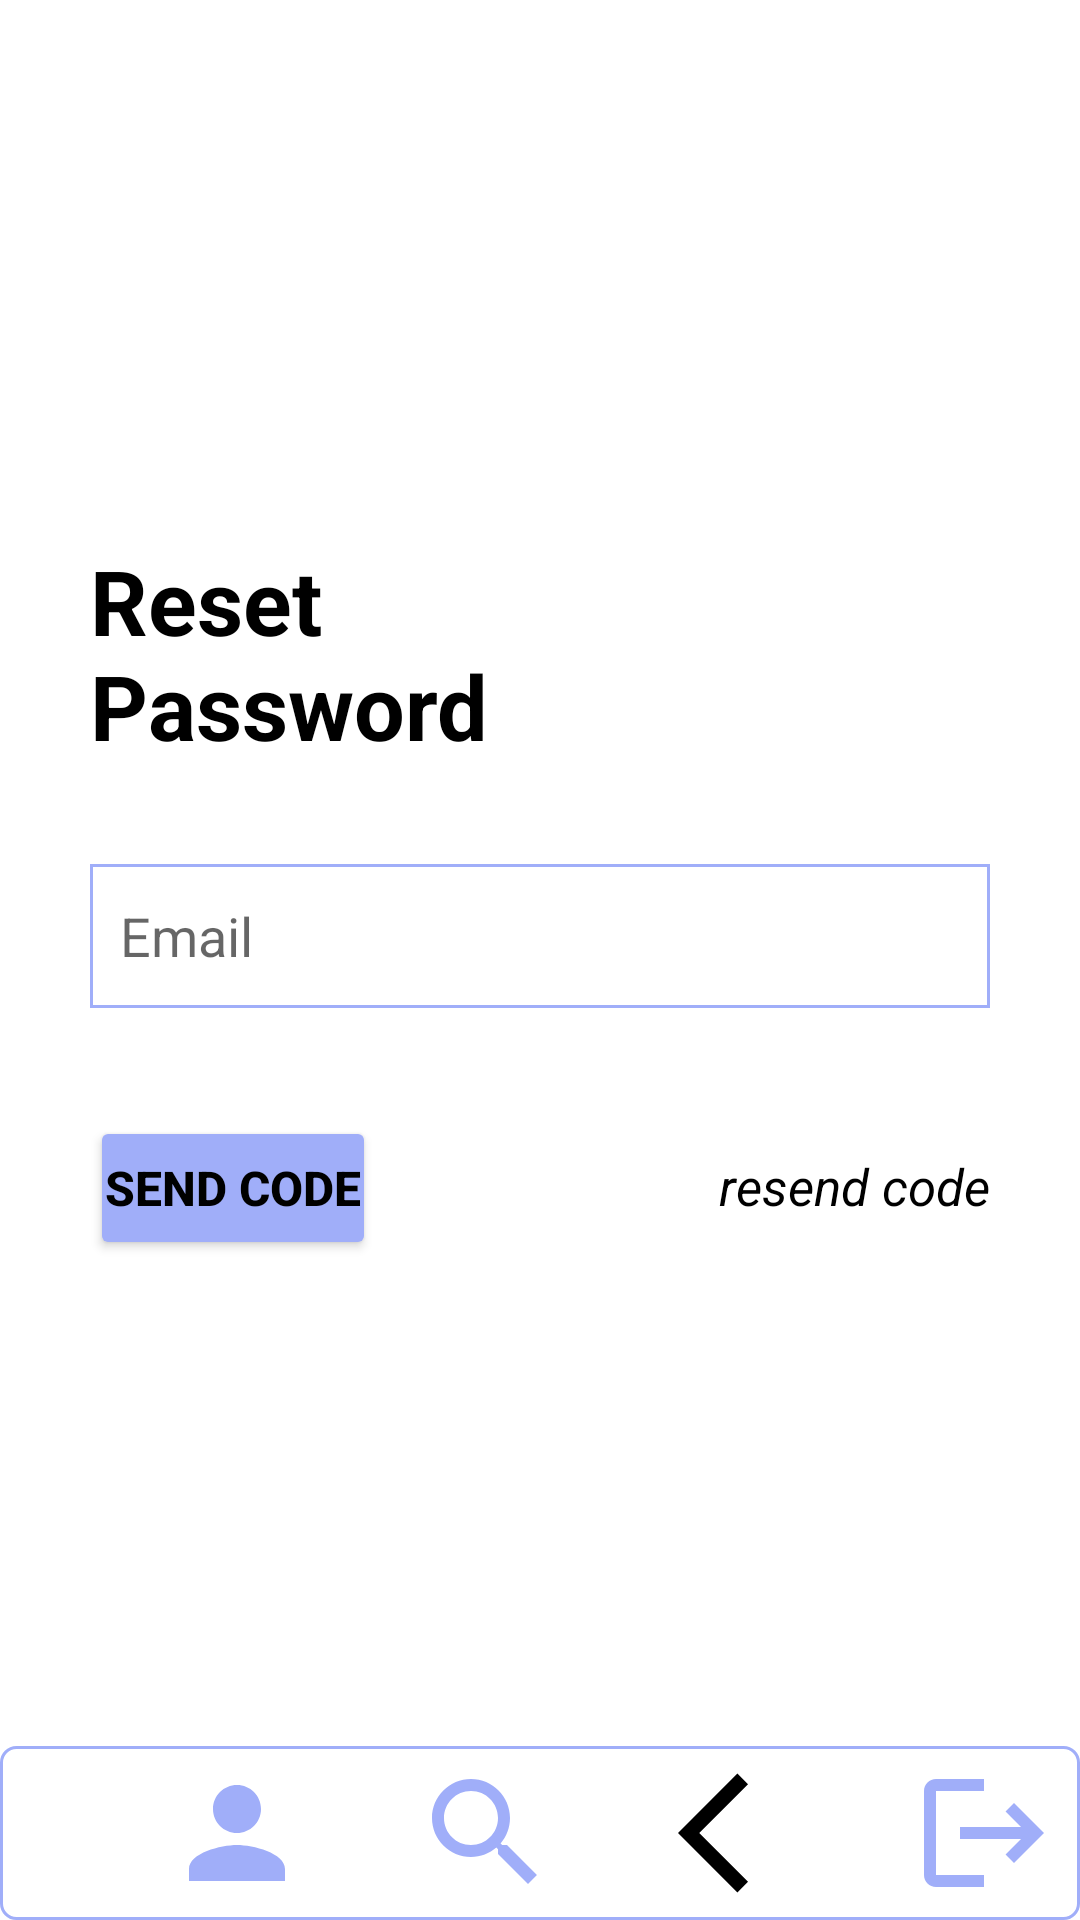

Named icons in this screenshot (1080 × 1920) and their bounding boxes, (x1, y1, x2, y2):
back arrow: (678, 1773, 748, 1893)
profile: (189, 1785, 285, 1881)
search: (432, 1779, 537, 1884)
